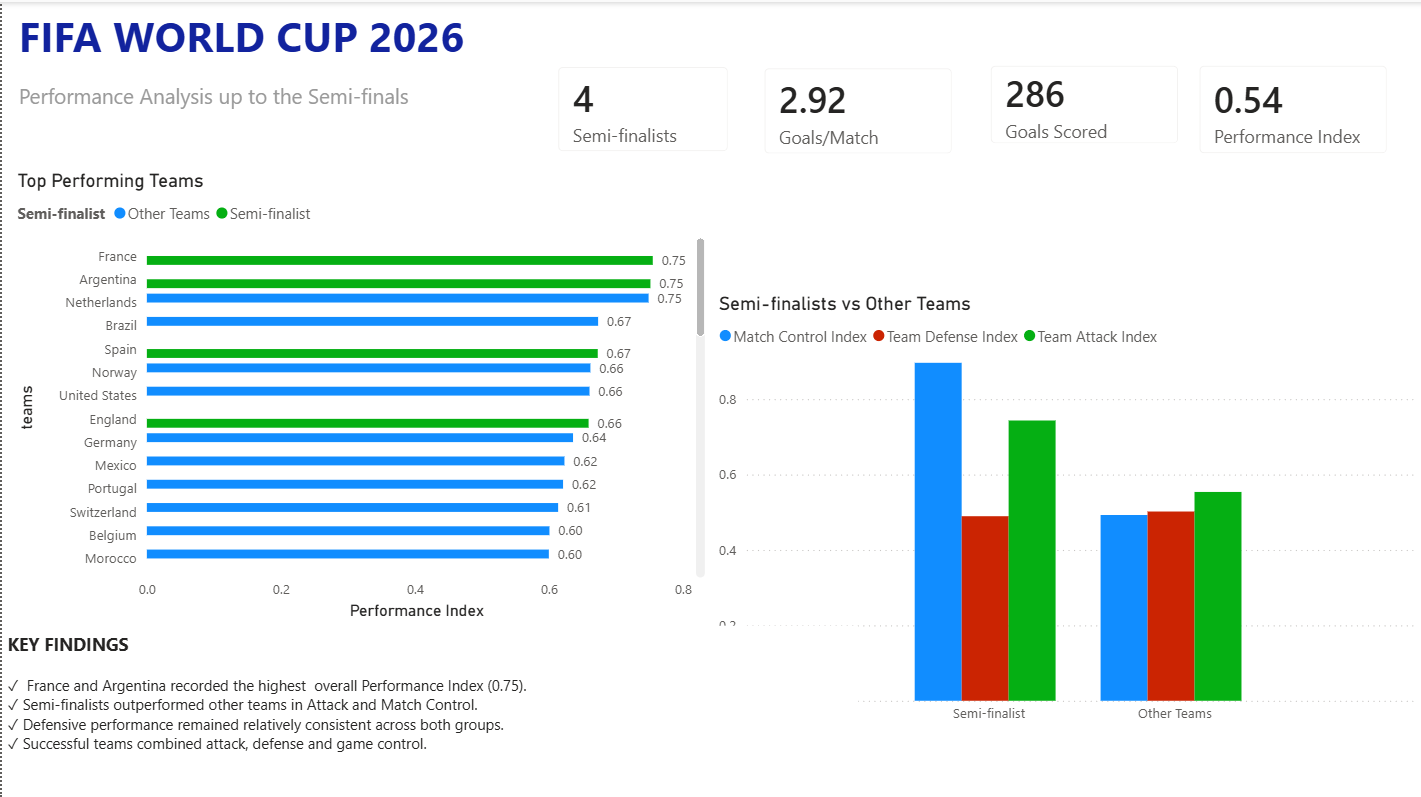

The dashboard page shown, as its layout file describes it:
{"tool":"powerbi","page":{"name":"Executive Overview","canvas":[1280,720],"ordinal":0},"visuals":[{"type":"textbox","box":[9.8,0,567.4,128.4],"z":0},{"type":"cardVisual","fields":{"Data":["Measures (2).Semi-finalists"]},"box":[484.8,41.6,187.4,110],"z":1000},{"type":"cardVisual","fields":{"Data":["Measures (2).Tournament Goals per Match"]},"box":[670.6,43.1,203.7,111.5],"z":2000},{"type":"cardVisual","fields":{"Data":["Measures (2).Goals Scored"]},"box":[874.4,40.1,203.7,104.1],"z":3000},{"type":"cardVisual","fields":{"Data":["Measures (2).Team Performance Index"]},"box":[1063.3,40.1,203.3,113.7],"z":4000},{"type":"clusteredBarChart","title":"Top Performing Teams","fields":{"Category":["Dim team.team"],"Y":["Measures (2).Performance Index"],"Series":["Dim team.Semi-finalist"]},"box":[9.4,151.1,630,410.6],"z":5000},{"type":"clusteredColumnChart","title":"Semi-finalists vs Other Teams","fields":{"Category":["Dim team.Semi-finalist"],"Y":["Measures (2).Match Control Index","Measures (2).Team Defense Index","Measures (2).Team Attack Index"]},"box":[640.9,261.7,639.4,398.5],"z":6000},{"type":"textbox","box":[0,562.1,771.8,145.7],"z":7000}]}

Visuals, with their boxes in screenshot pixels (x1, y1, x2, y2), scaled from the page's 1280x720 canvas onto the 1421x797 screenshot:
textbox: <region>11, 0, 641, 142</region>
cardVisual - Measures (2).Semi-finalists: <region>538, 46, 746, 168</region>
cardVisual - Measures (2).Tournament Goals per Match: <region>744, 48, 971, 171</region>
cardVisual - Measures (2).Goals Scored: <region>971, 44, 1197, 160</region>
cardVisual - Measures (2).Team Performance Index: <region>1180, 44, 1406, 170</region>
"Top Performing Teams" clusteredBarChart: <region>10, 167, 710, 622</region>
"Semi-finalists vs Other Teams" clusteredColumnChart: <region>711, 290, 1420, 731</region>
textbox: <region>0, 622, 857, 783</region>
